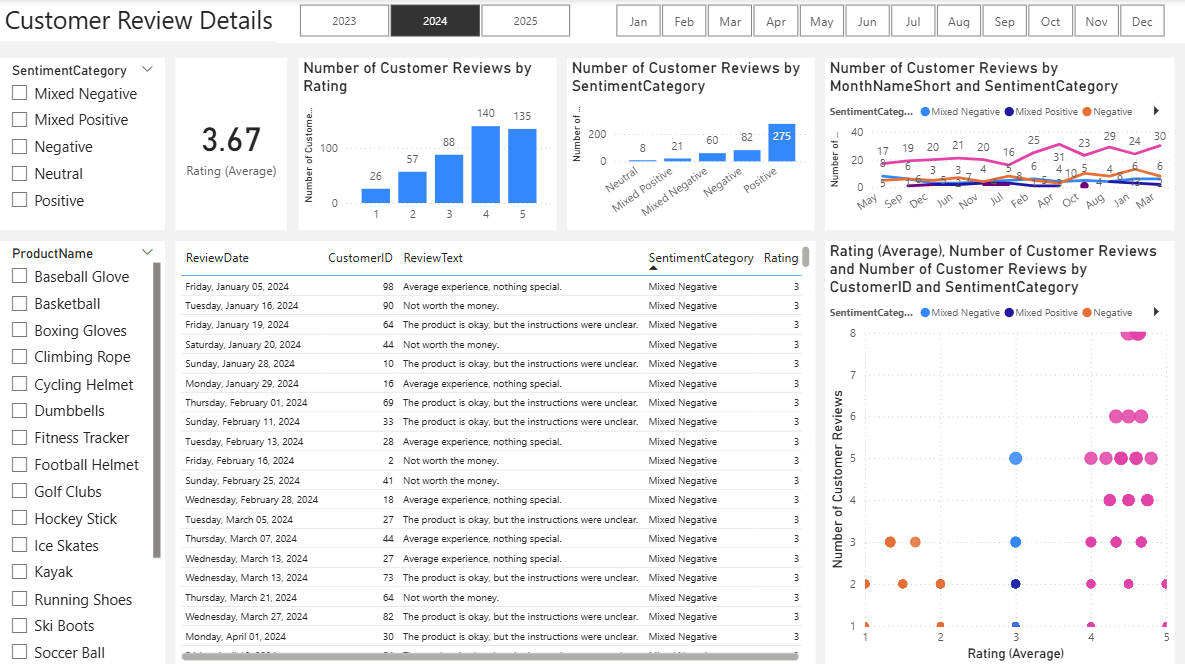

Layout of this report page (visuals, bound fields, positions):
{"tool":"powerbi","page":{"name":"Customer Review Details","canvas":[1280,720],"ordinal":3},"visuals":[{"type":"textbox","box":[0,0,1280.8,47],"z":0},{"type":"slicer","fields":{"Values":["dim_products.ProductName"]},"box":[0,262.3,178.1,458.2],"z":1000},{"type":"slicer","fields":{"Values":["Calendar.Year"]},"box":[297.9,0,341.7,48.6],"z":2000},{"type":"slicer","fields":{"Values":["Calendar.MonthNameShort"]},"box":[639.6,0,641.2,48.6],"z":3000},{"type":"card","fields":{"Values":["_Calculations.Rating (Average)"]},"box":[189.4,64.8,119.8,186.2],"z":4000},{"type":"clusteredColumnChart","fields":{"Y":["_Calculations.Number of Customer Reviews"],"Category":["fact_customer_reviews_with_sentiment.Rating"]},"box":[322.2,64.8,278.5,186.2],"z":5000},{"type":"clusteredColumnChart","fields":{"Y":["_Calculations.Number of Customer Reviews"],"Category":["fact_customer_reviews_with_sentiment.SentimentCategory"]},"box":[612.1,64.8,267.2,186.2],"z":6000},{"type":"lineChart","fields":{"Y":["_Calculations.Number of Customer Reviews"],"Category":["Calendar.MonthNameShort"],"Series":["fact_customer_reviews_with_sentiment.SentimentCategory"]},"box":[890.6,64.8,377.3,186.2],"z":7000},{"type":"tableEx","fields":{"Values":["fact_customer_reviews_with_sentiment.ReviewDate","fact_customer_reviews_with_sentiment.CustomerID","fact_customer_reviews_with_sentiment.ReviewText","fact_customer_reviews_with_sentiment.SentimentCategory","fact_customer_reviews_with_sentiment.Rating"]},"box":[189.4,262.3,689.8,458.2],"z":8000},{"type":"scatterChart","fields":{"X":["_Calculations.Rating (Average)"],"Y":["_Calculations.Number of Customer Reviews"],"Category":["fact_customer_reviews_with_sentiment.CustomerID"],"Series":["fact_customer_reviews_with_sentiment.SentimentCategory"],"Size":["_Calculations.Number of Customer Reviews"]},"box":[891,262,377,458],"z":9000},{"type":"slicer","fields":{"Values":["fact_customer_reviews_with_sentiment.SentimentCategory"]},"box":[0,64.8,178.1,186.2],"z":9001}]}

Visuals, with their boxes in screenshot pixels (x1, y1, x2, y2), scaled from the page's 1280x720 canvas onto the 1185x664 screenshot:
textbox: crop(0, 0, 1184, 43)
slicer - dim_products.ProductName: crop(0, 242, 165, 663)
slicer - Calendar.Year: crop(276, 0, 592, 45)
slicer - Calendar.MonthNameShort: crop(592, 0, 1184, 45)
card - _Calculations.Rating (Average): crop(175, 60, 286, 231)
clusteredColumnChart - _Calculations.Number of Customer Reviews x fact_customer_reviews_with_sentiment.Rating: crop(298, 60, 556, 231)
clusteredColumnChart - _Calculations.Number of Customer Reviews x fact_customer_reviews_with_sentiment.SentimentCategory: crop(567, 60, 814, 231)
lineChart - _Calculations.Number of Customer Reviews x Calendar.MonthNameShort: crop(825, 60, 1174, 231)
tableEx - fact_customer_reviews_with_sentiment.ReviewDate x fact_customer_reviews_with_sentiment.CustomerID: crop(175, 242, 814, 663)
scatterChart - _Calculations.Rating (Average) x _Calculations.Number of Customer Reviews: crop(825, 242, 1174, 663)
slicer - fact_customer_reviews_with_sentiment.SentimentCategory: crop(0, 60, 165, 231)
